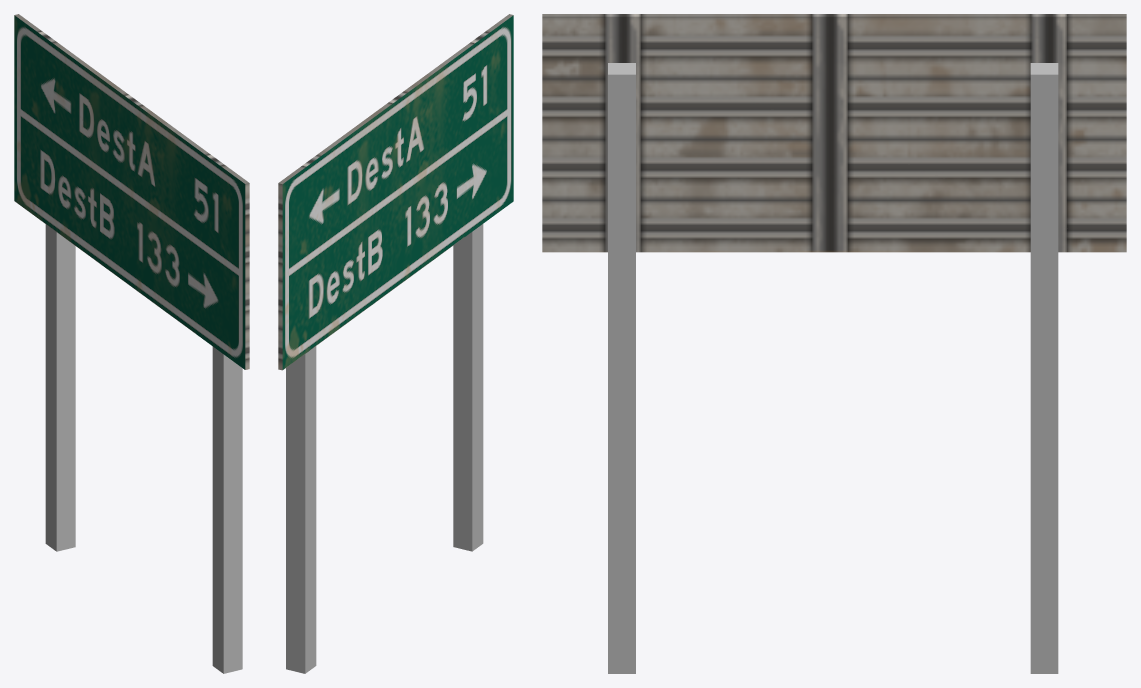
Rendered from trafficSign_HWay2d_ground.fbx.
3 renders of one model, left to right at view 1: azimuth 30°, elevation 25°; view 2: azimuth 150°, elevation 25°; view 3: azimuth 270°, elevation 25°, orthographic. The views are drawn at different scales.
Visible parts, largest first — view 1: trafficSign_HWay2d_ground; view 2: trafficSign_HWay2d_ground; view 3: trafficSign_HWay2d_ground.
Boxes of the visible parts, <box> form: trafficSign_HWay2d_ground: <box>14,14,249,673</box>; trafficSign_HWay2d_ground: <box>278,14,513,673</box>; trafficSign_HWay2d_ground: <box>542,14,1126,673</box>.
Size of the model in its own units: 15.84 by 329 by 270.
